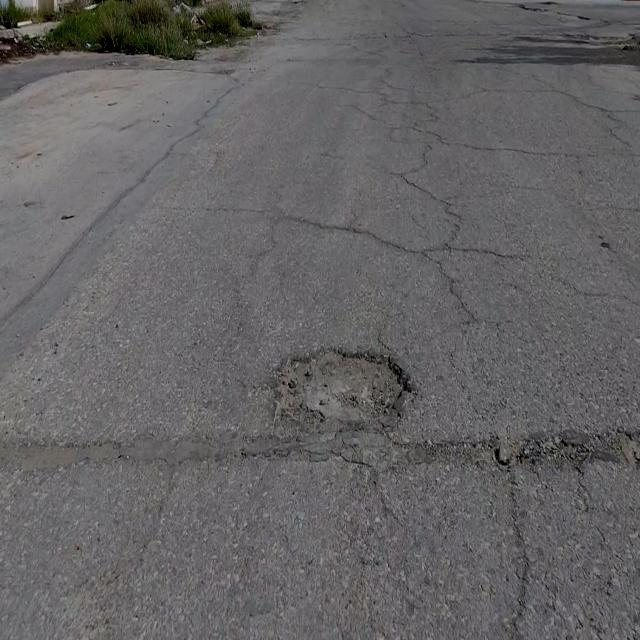Potholes: (276, 346, 414, 428)
